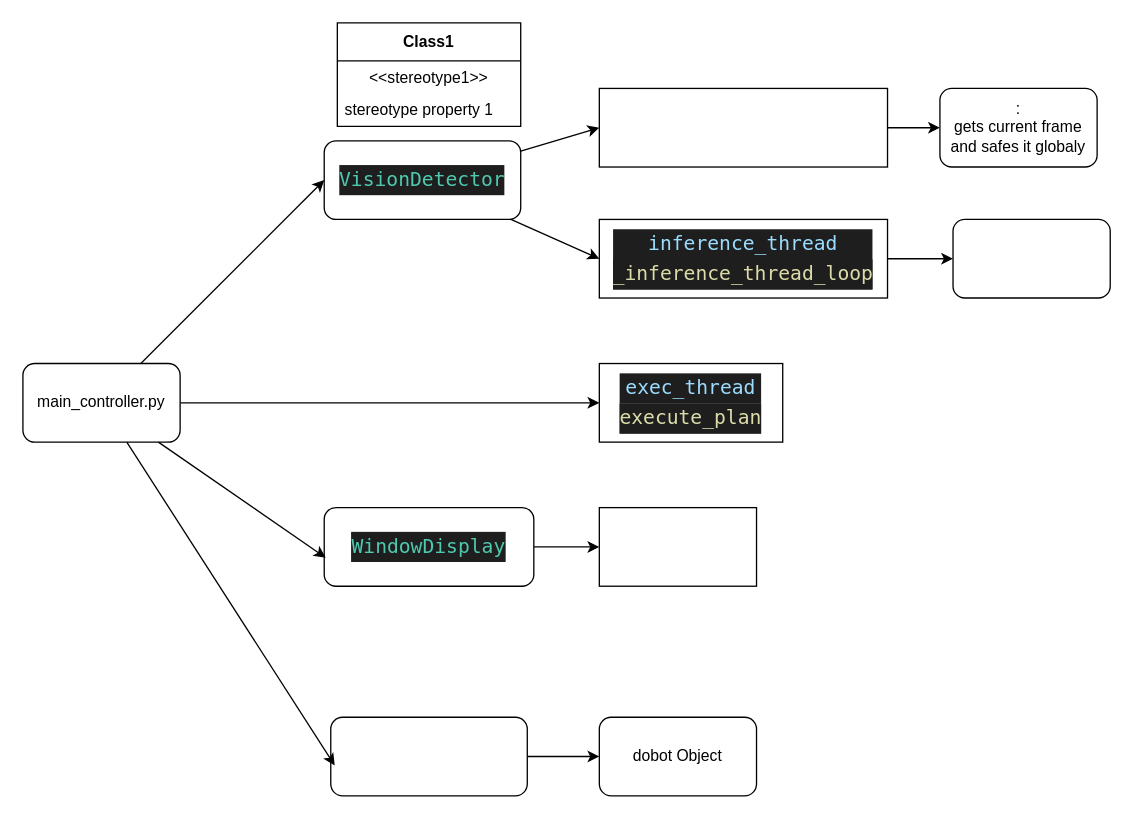
Some shapes in this 1133 by 819 pixel diagram are drawn without their labels. The shapes that lost their labels are listed below. From the top down, each one's box as (x1, y1, x2, y2) in pixels, then its label:
(598, 87, 888, 167): video_thread _video_thread_loop
(952, 218, 1110, 298): : gets and prepares frame to run GDINO inference on it
(598, 506, 757, 586): Main Thread (Blocking loop)
(329, 716, 527, 796): DobotController
